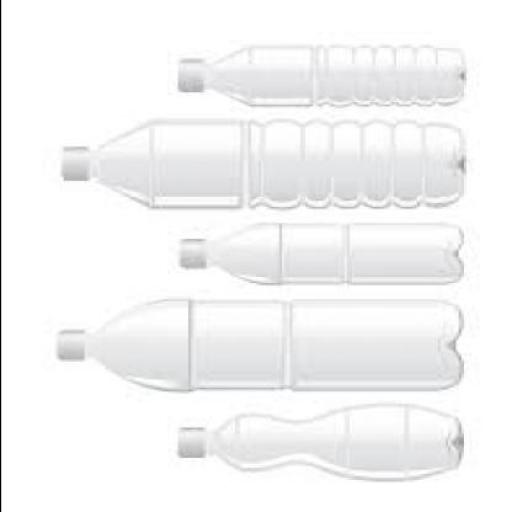plastic: (54, 299, 460, 390), (56, 116, 462, 205), (172, 402, 457, 478), (176, 218, 460, 285), (174, 42, 462, 104), (56, 142, 88, 179), (174, 56, 200, 93), (171, 426, 203, 455), (52, 326, 81, 358), (176, 237, 202, 266)
